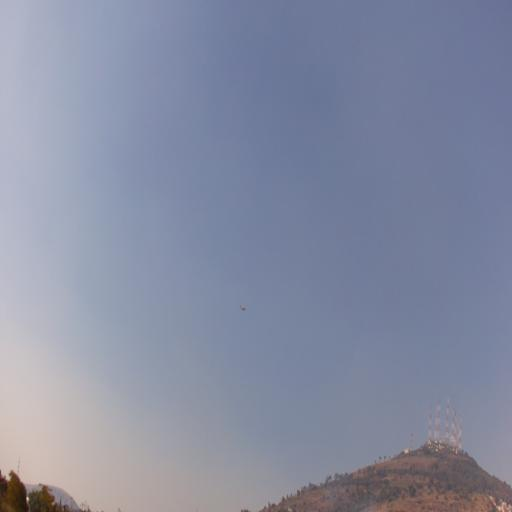drones: (240, 304, 247, 313)
